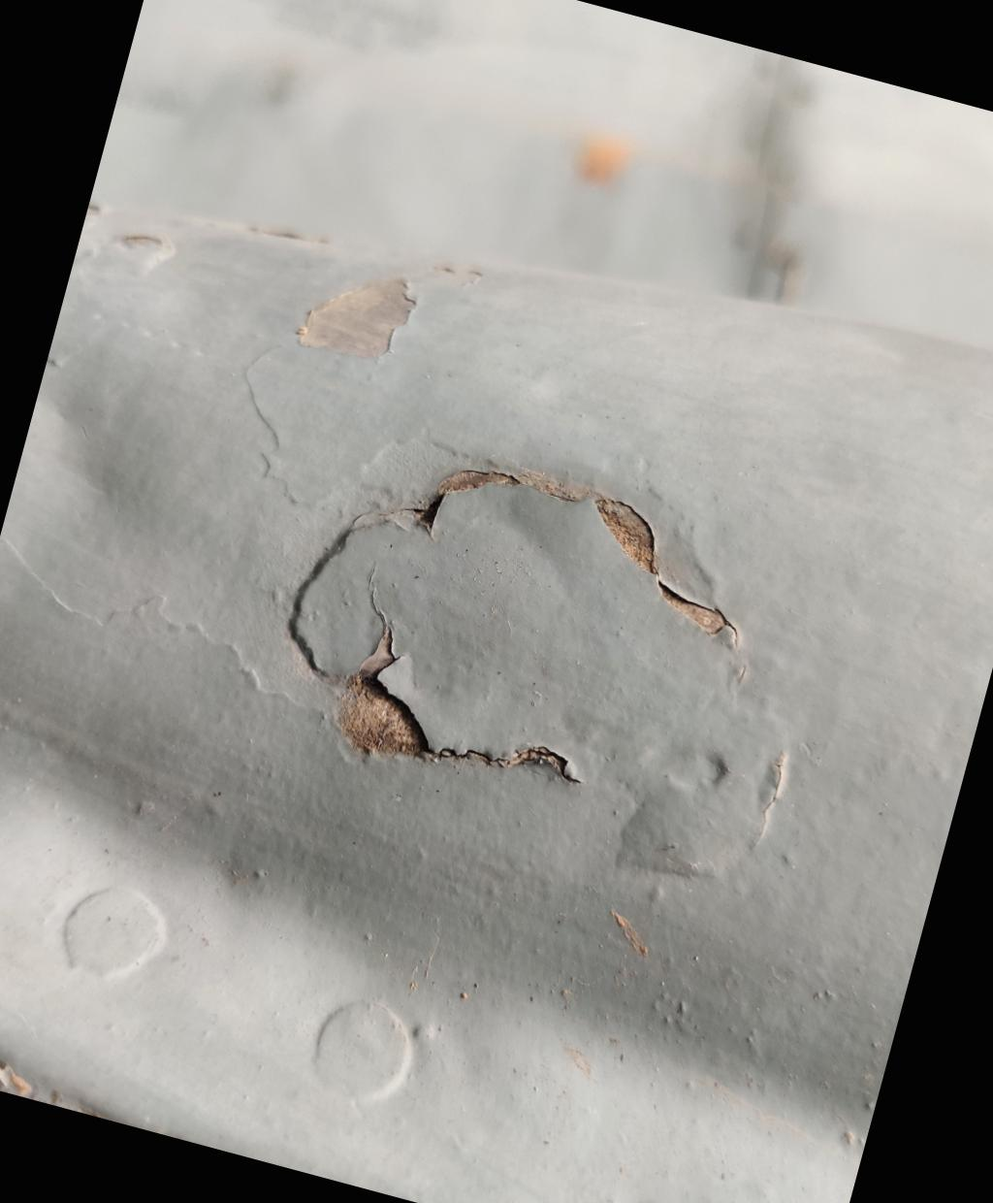corrosion: (252, 419, 756, 849)
